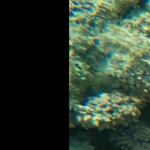dead: (70, 1, 147, 148)
